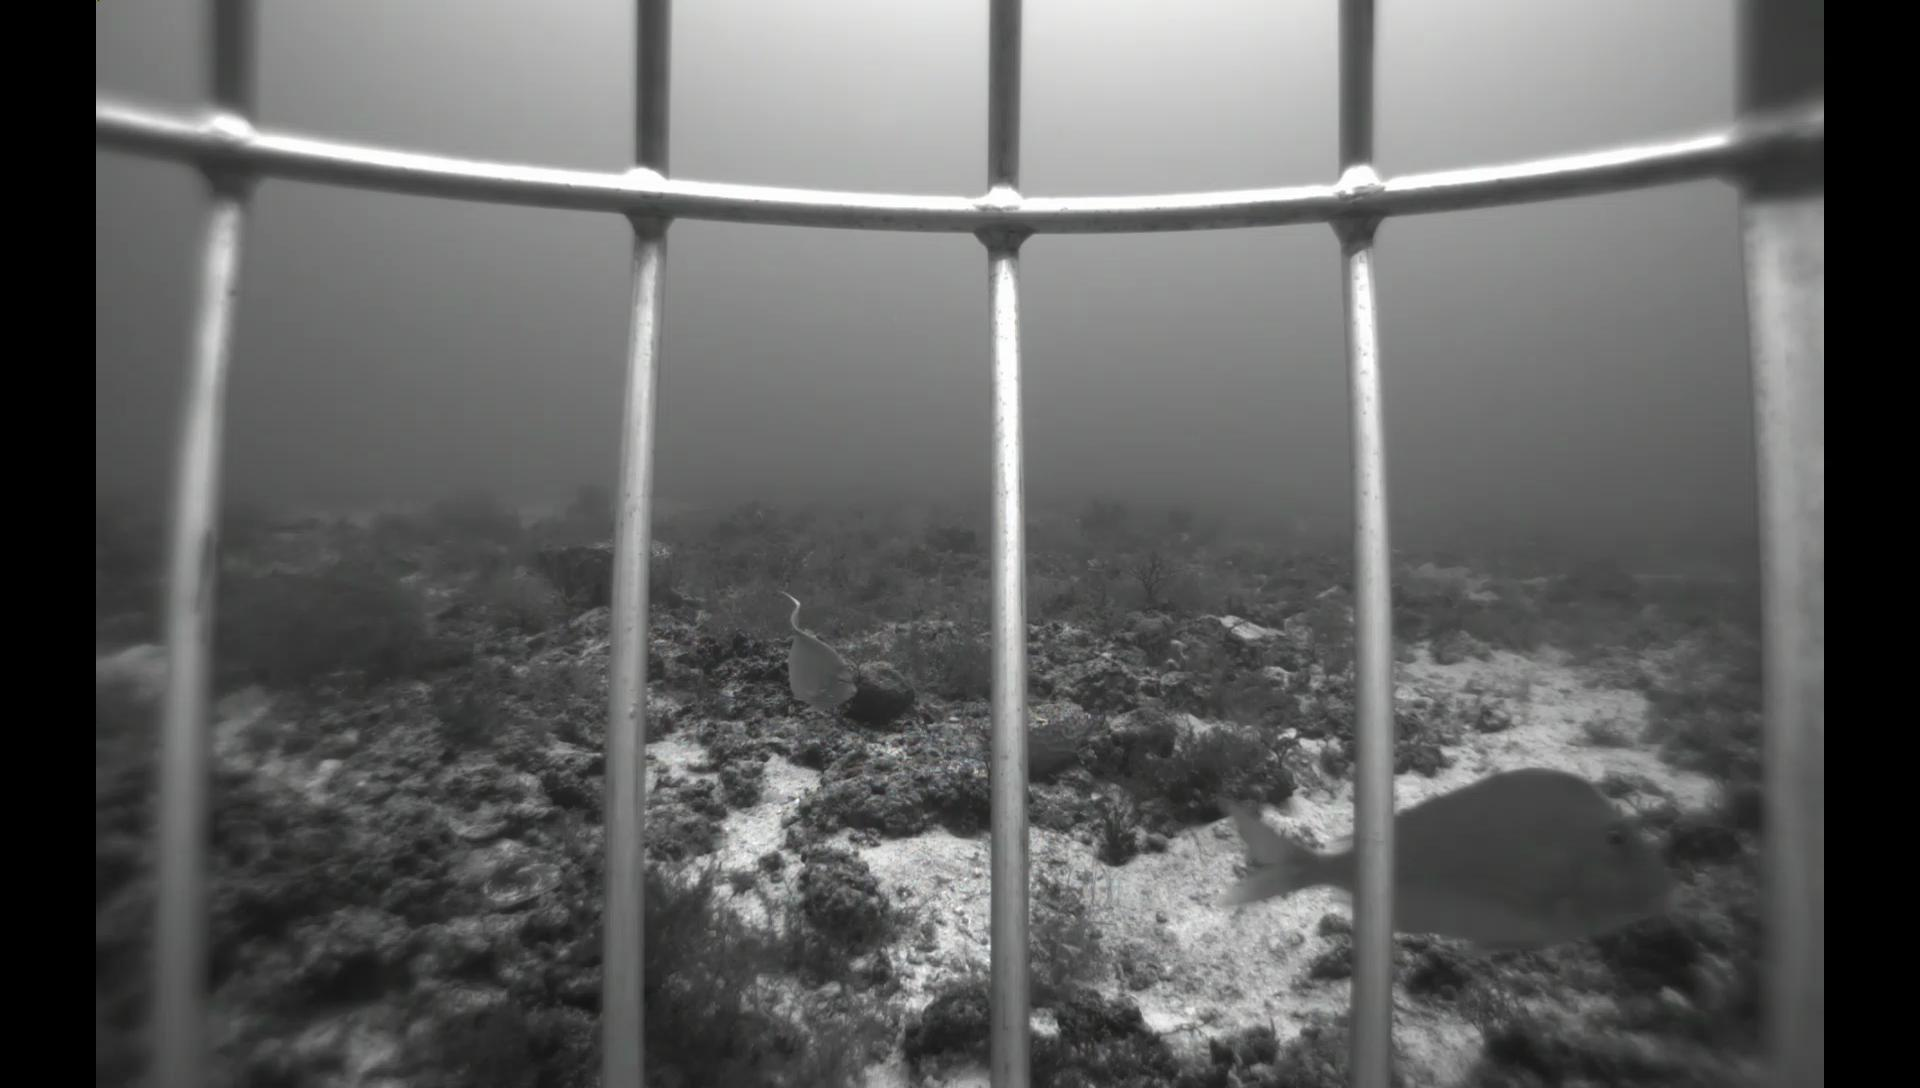CALAMUSNODOSUS-170210608: (1218, 764, 1692, 965)
HOLACANTHUSBERMUDENSIS-170290102: (767, 586, 865, 719)
MYCTEROPERCAPHENAX-170022105: (845, 508, 887, 553)
